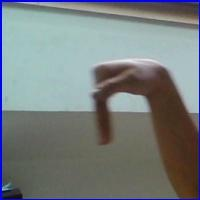del: (82, 50, 180, 153)
